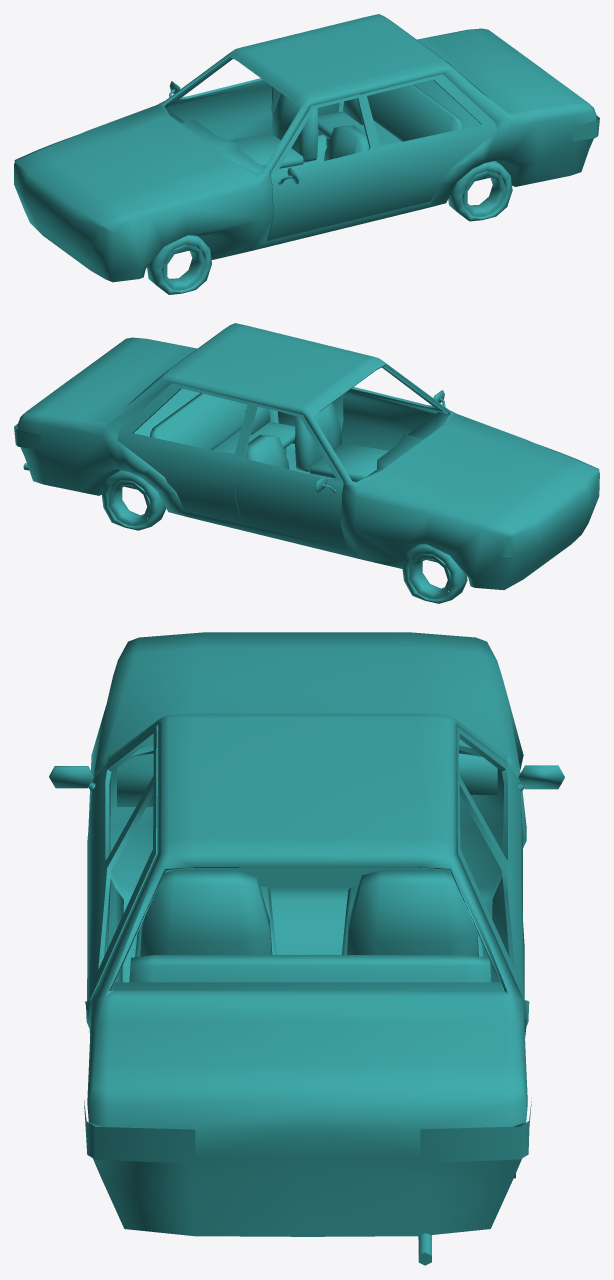
The model's file is Car2_Collision.fbx.
The picture shows the model from 3 angles, top to bottom: view 1: azimuth 30°, elevation 25°; view 2: azimuth 150°, elevation 25°; view 3: azimuth 270°, elevation 25°; orthographic projection. The views are drawn at different scales.
Parts seen in each view (by area): view 1: Car2_Collision; view 2: Car2_Collision; view 3: Car2_Collision.
Part boxes in pixels (x1,y1,x2,y2): Car2_Collision: (14, 14, 599, 294); Car2_Collision: (14, 323, 599, 603); Car2_Collision: (49, 632, 564, 1265).
Size of the model in its own units: 5.06 by 1.4 by 2.21.
